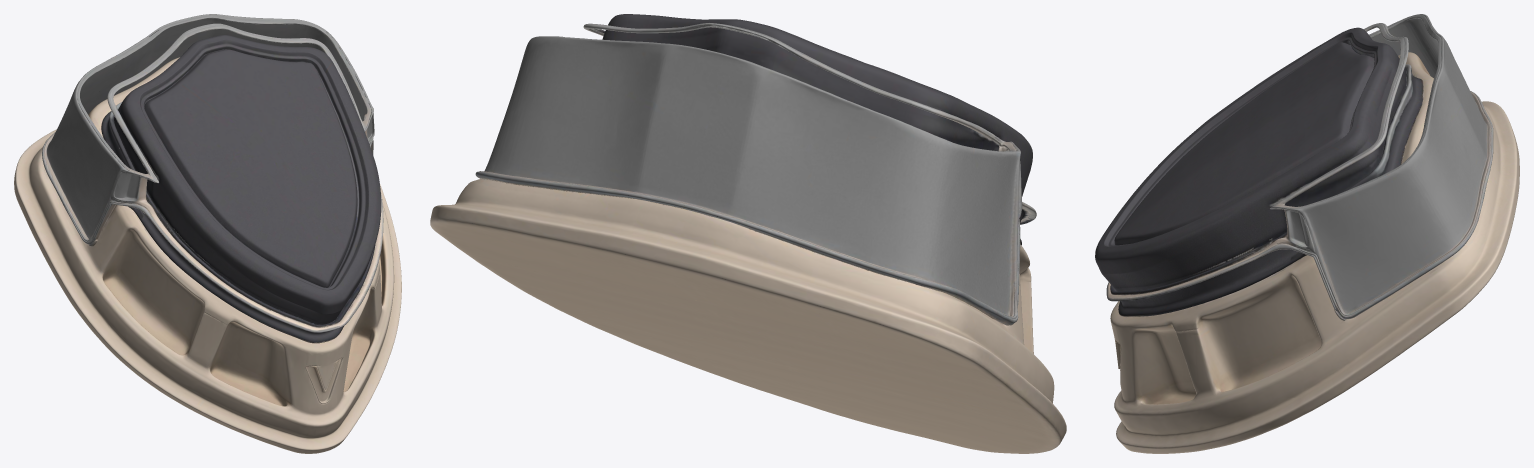
The model's file is valquiria-pack-web.glb.
3 renders of one model, left to right at view 1: azimuth 30°, elevation 25°; view 2: azimuth 150°, elevation 25°; view 3: azimuth 270°, elevation 25°, orthographic. The views are drawn at different scales.
Visible parts, largest first — view 1: tripo_node_5592c36a-a72a-44f0-af9a-01f27ddfeda1; view 2: tripo_node_5592c36a-a72a-44f0-af9a-01f27ddfeda1; view 3: tripo_node_5592c36a-a72a-44f0-af9a-01f27ddfeda1.
Part boxes in pixels (<box>): tripo_node_5592c36a-a72a-44f0-af9a-01f27ddfeda1: <box>14,14,401,453</box>; tripo_node_5592c36a-a72a-44f0-af9a-01f27ddfeda1: <box>430,14,1066,453</box>; tripo_node_5592c36a-a72a-44f0-af9a-01f27ddfeda1: <box>1095,14,1519,453</box>.
Bounding box in the file's own units: 0.9792 × 0.9524 × 0.9266.
Materials: 1 (1 with a texture image).
